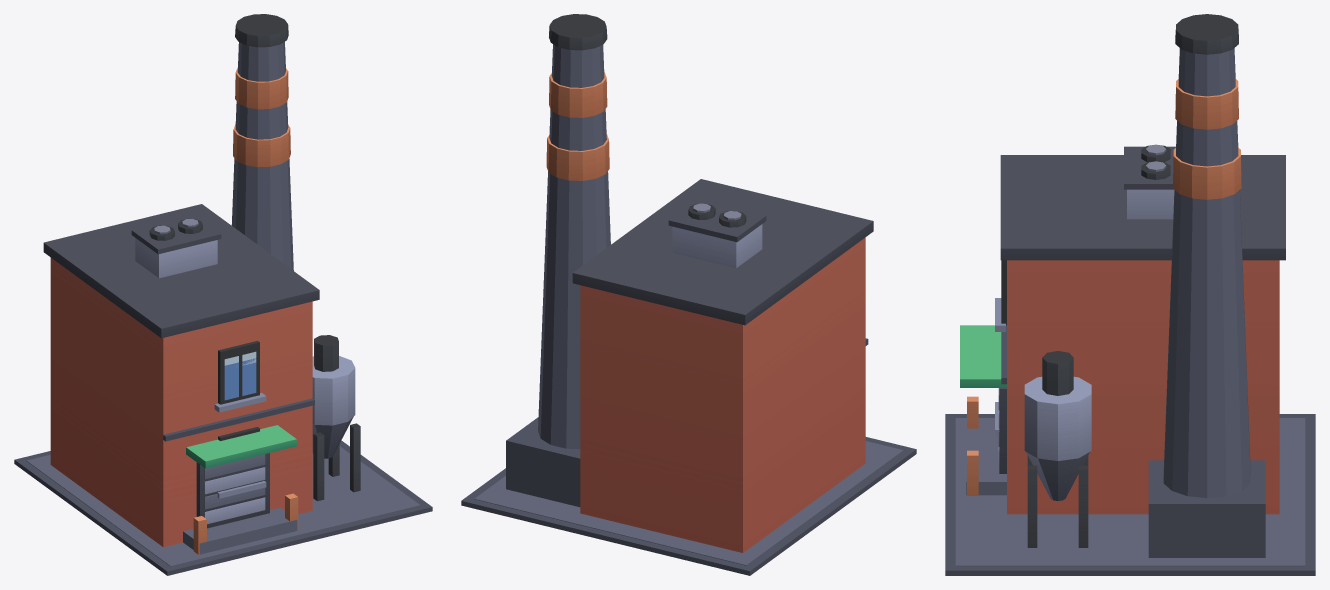
File: ind_boiler_house_1x1.glb
The picture shows the model from 3 angles, left to right: view 1: azimuth 30°, elevation 25°; view 2: azimuth 150°, elevation 25°; view 3: azimuth 270°, elevation 25°; orthographic projection. The views are drawn at different scales.
Visible parts, largest first — view 1: ind_boiler_house_1x1; view 2: ind_boiler_house_1x1; view 3: ind_boiler_house_1x1.
Boxes of the visible parts, x1,y1,x2,y2 form: ind_boiler_house_1x1: [14, 14, 432, 575]; ind_boiler_house_1x1: [461, 14, 916, 575]; ind_boiler_house_1x1: [945, 14, 1315, 575].
Size of the model in its own units: 1.74 by 2.65 by 1.74.
Materials: 1 (1 with a texture image).
